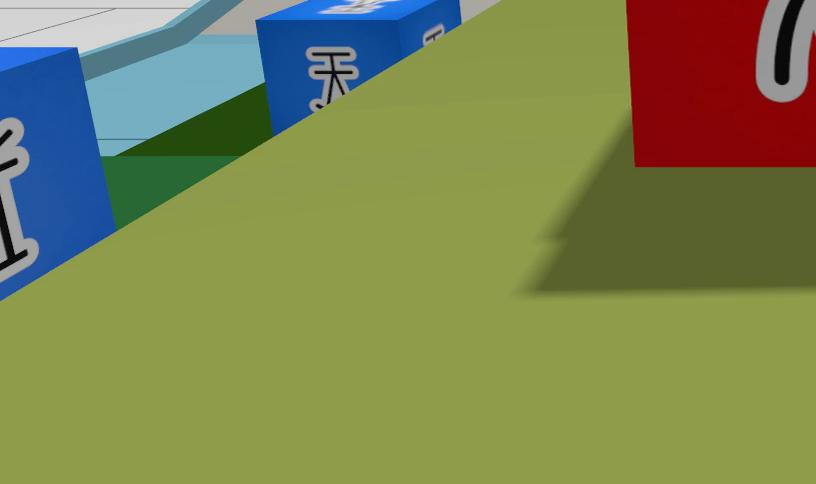KFS_FAKE: (625, 0, 816, 167), (755, 0, 816, 102)
KFS_REAL: (0, 47, 114, 298), (256, 0, 461, 133), (0, 118, 38, 279), (307, 48, 358, 112)
